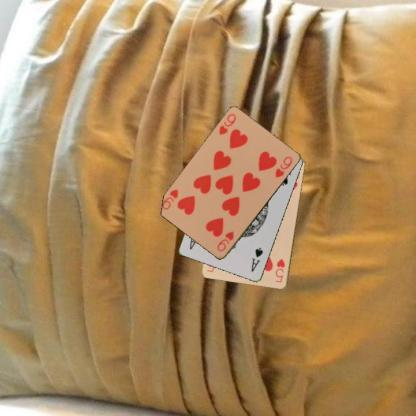5h: (272, 256, 286, 284)
9h: (216, 111, 238, 136), (214, 229, 235, 254)
As: (248, 244, 264, 274)
